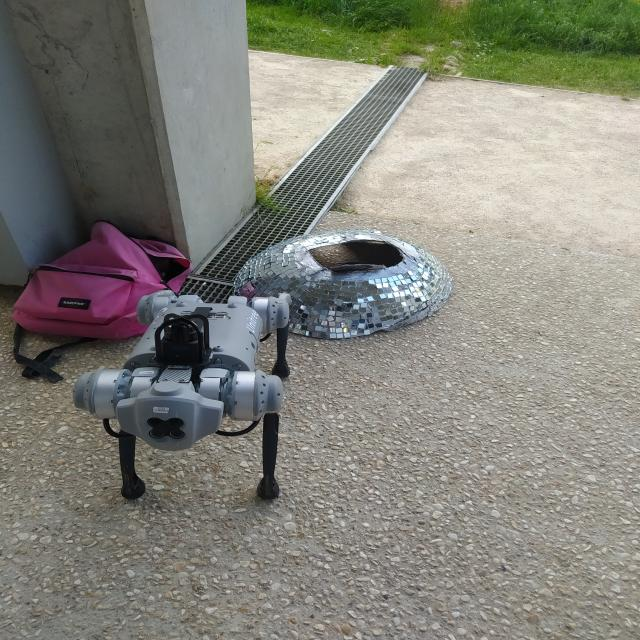unitree-go1-robot: (65, 283, 320, 524)
